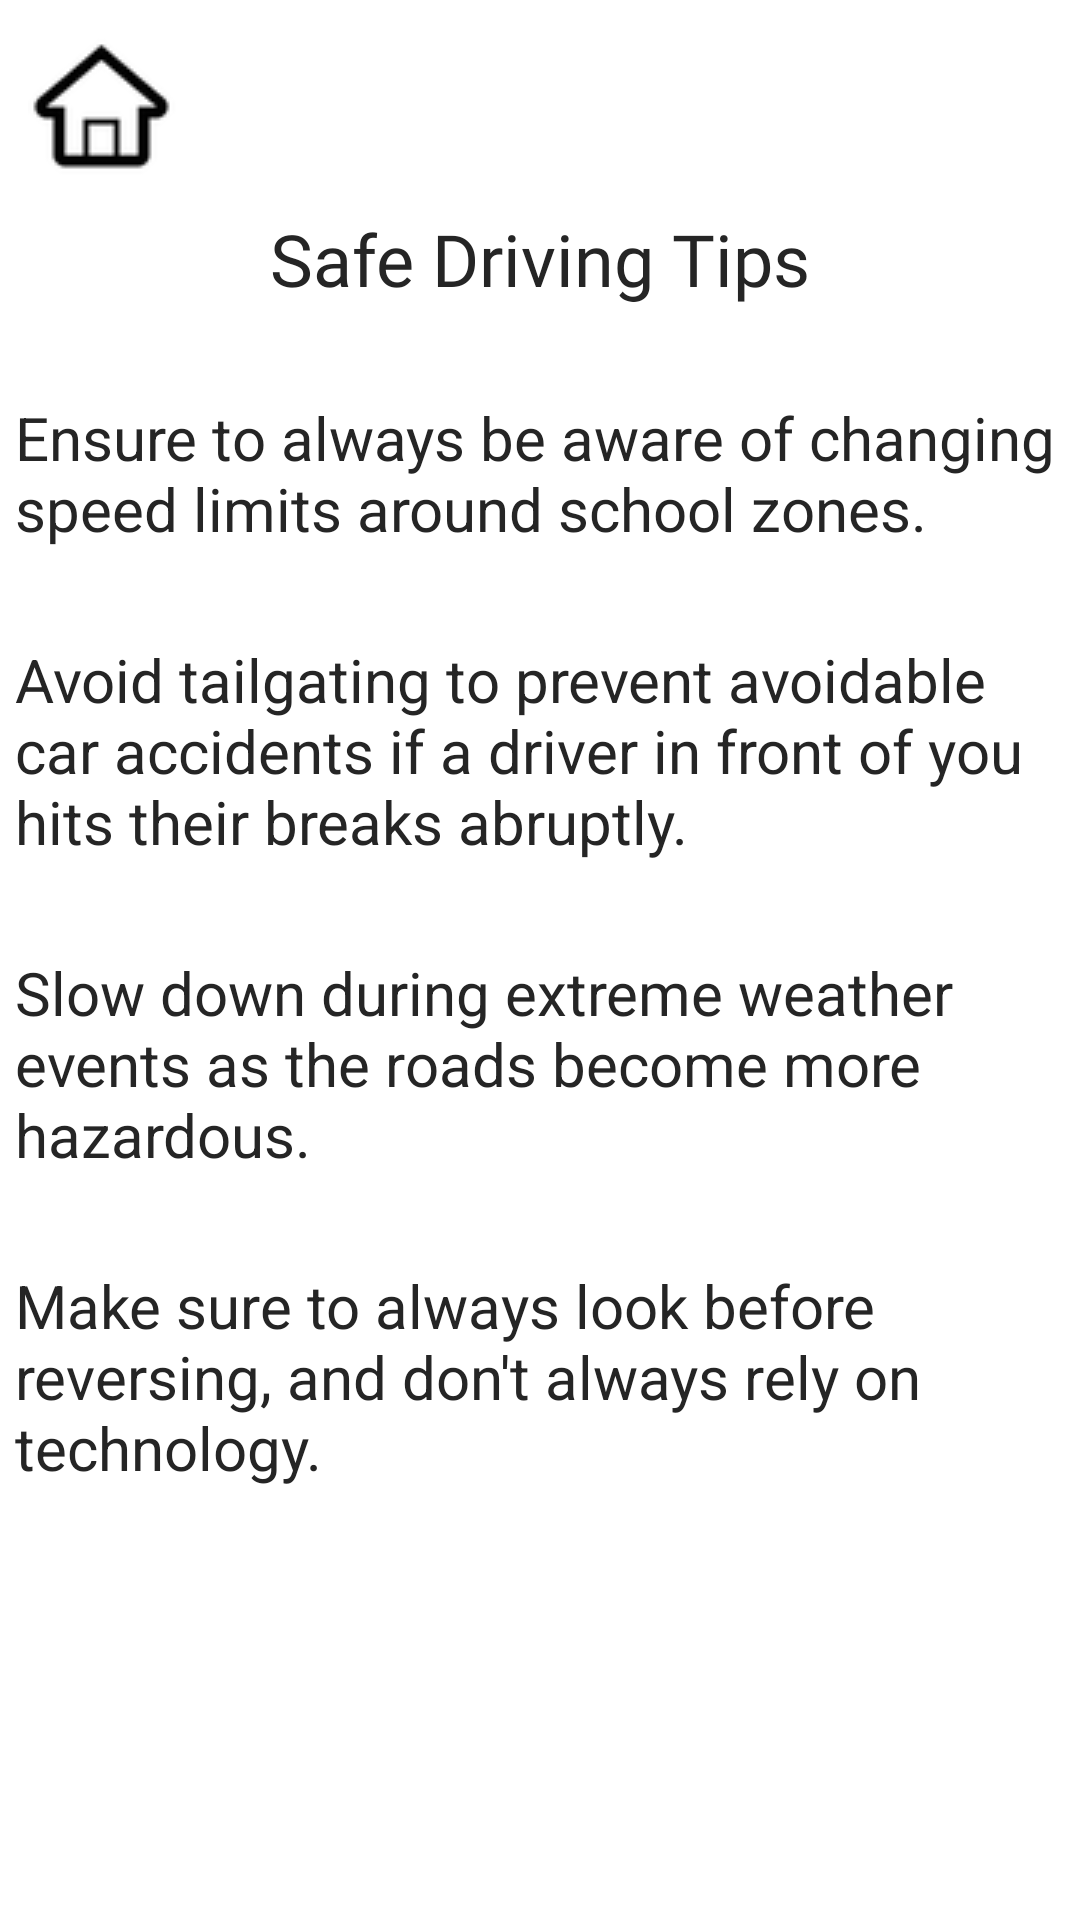

Point at icon controls on the screen. Image size 1080x1920, points as (x,y).
home: (101,106)
